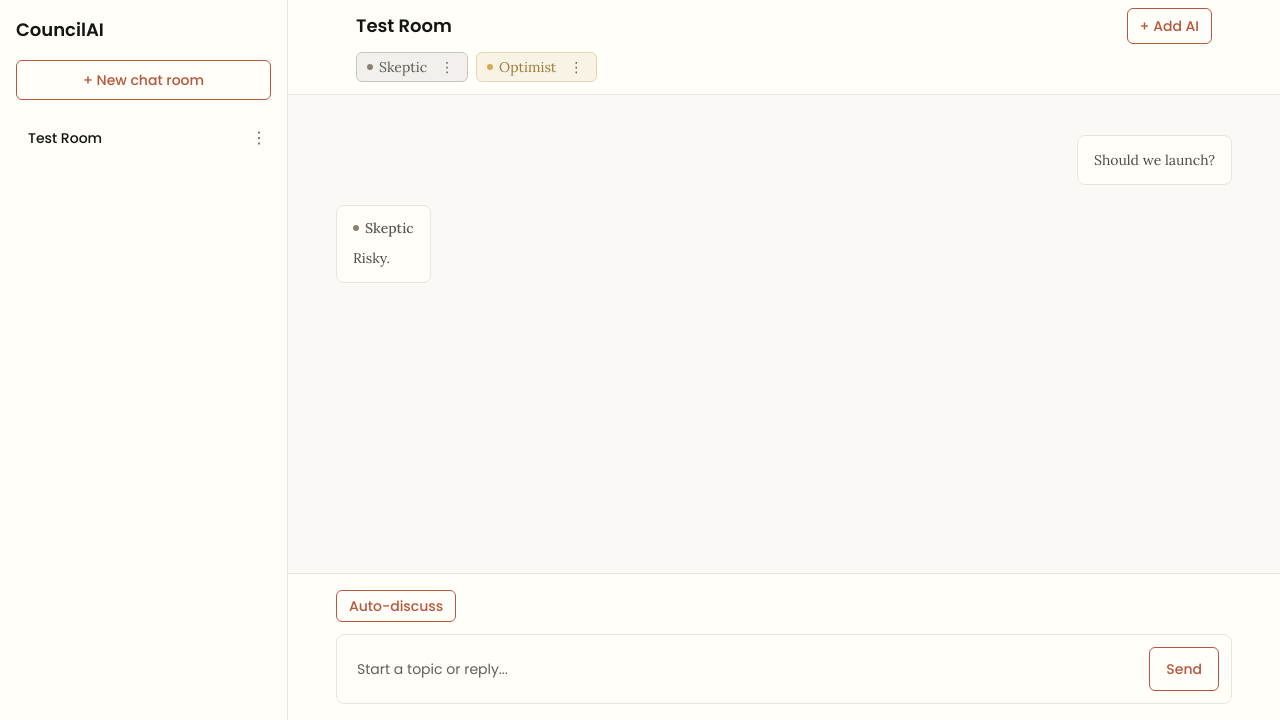
Scenario: Auto-discuss › keeps discussing when selector asks for clarification before any AI question
Click the button "Auto-discuss" at (396, 606), box [336,590,456,622]
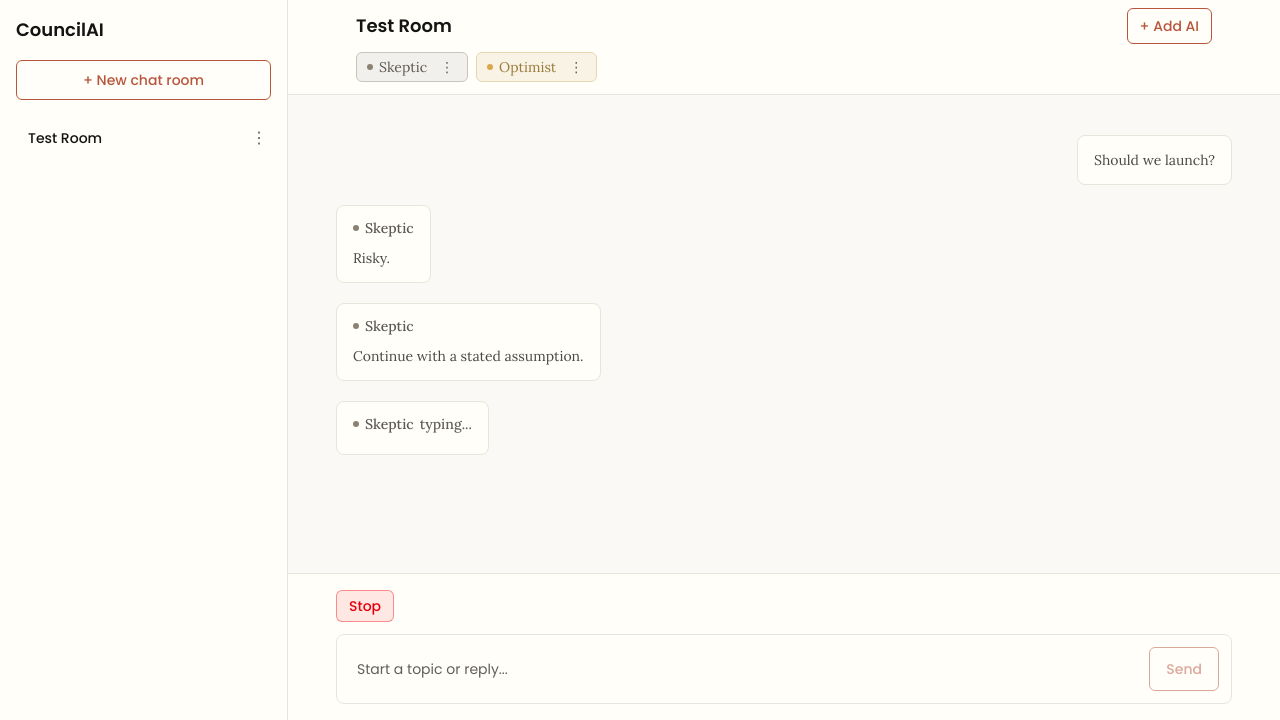
Now the text "Continue with a stated assumption." is shown, box [353,344,584,368]
Click the button "Stop" at (365, 606), box [336,590,394,622]
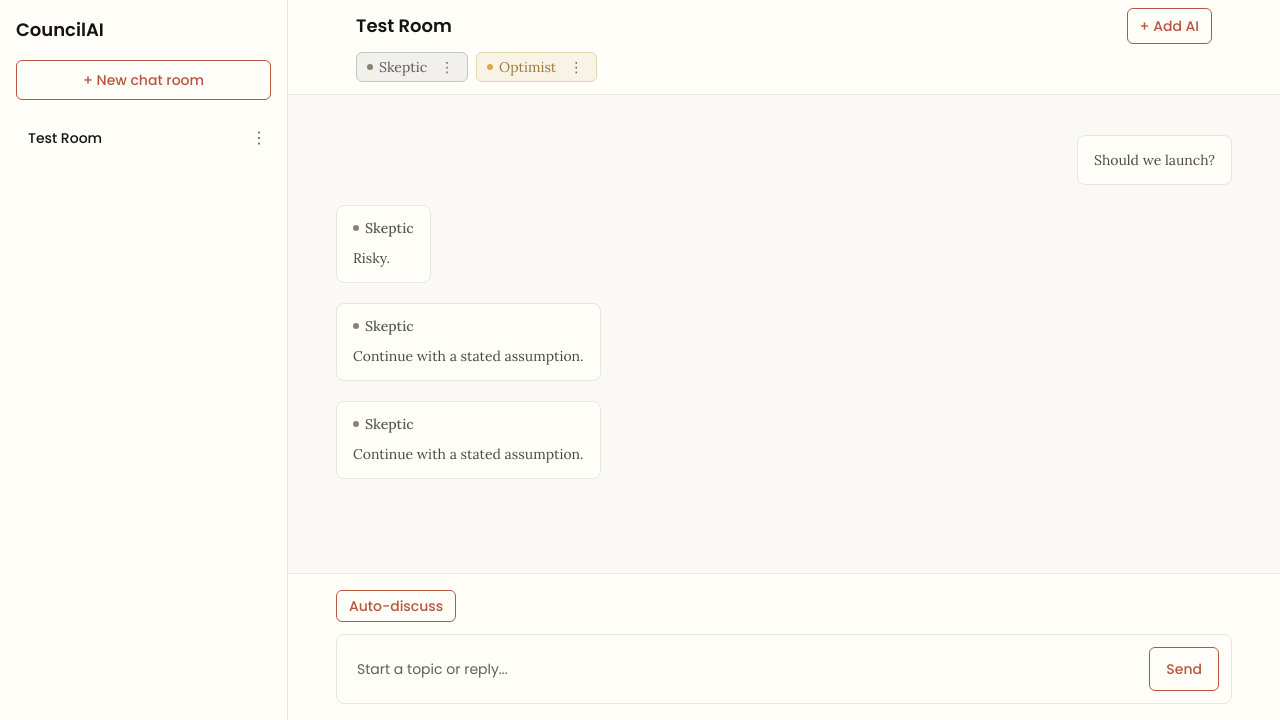
Now the button "Auto-discuss" is shown, box [336,590,456,622]
